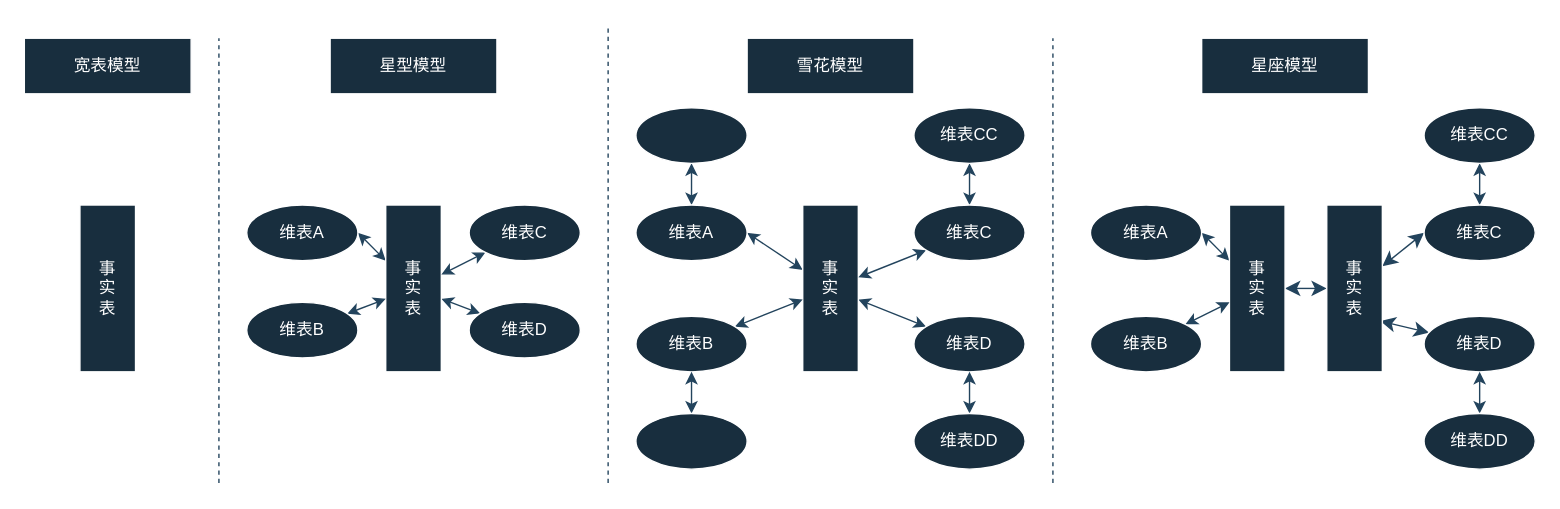
Some shapes in this 1560 by 509 pixel diagram are drawn without their labels. Here are the shapes that lost their labels. From the top down, the centre of each, then its label:
(691,134): 维表AA
(691,440): 维表BB
